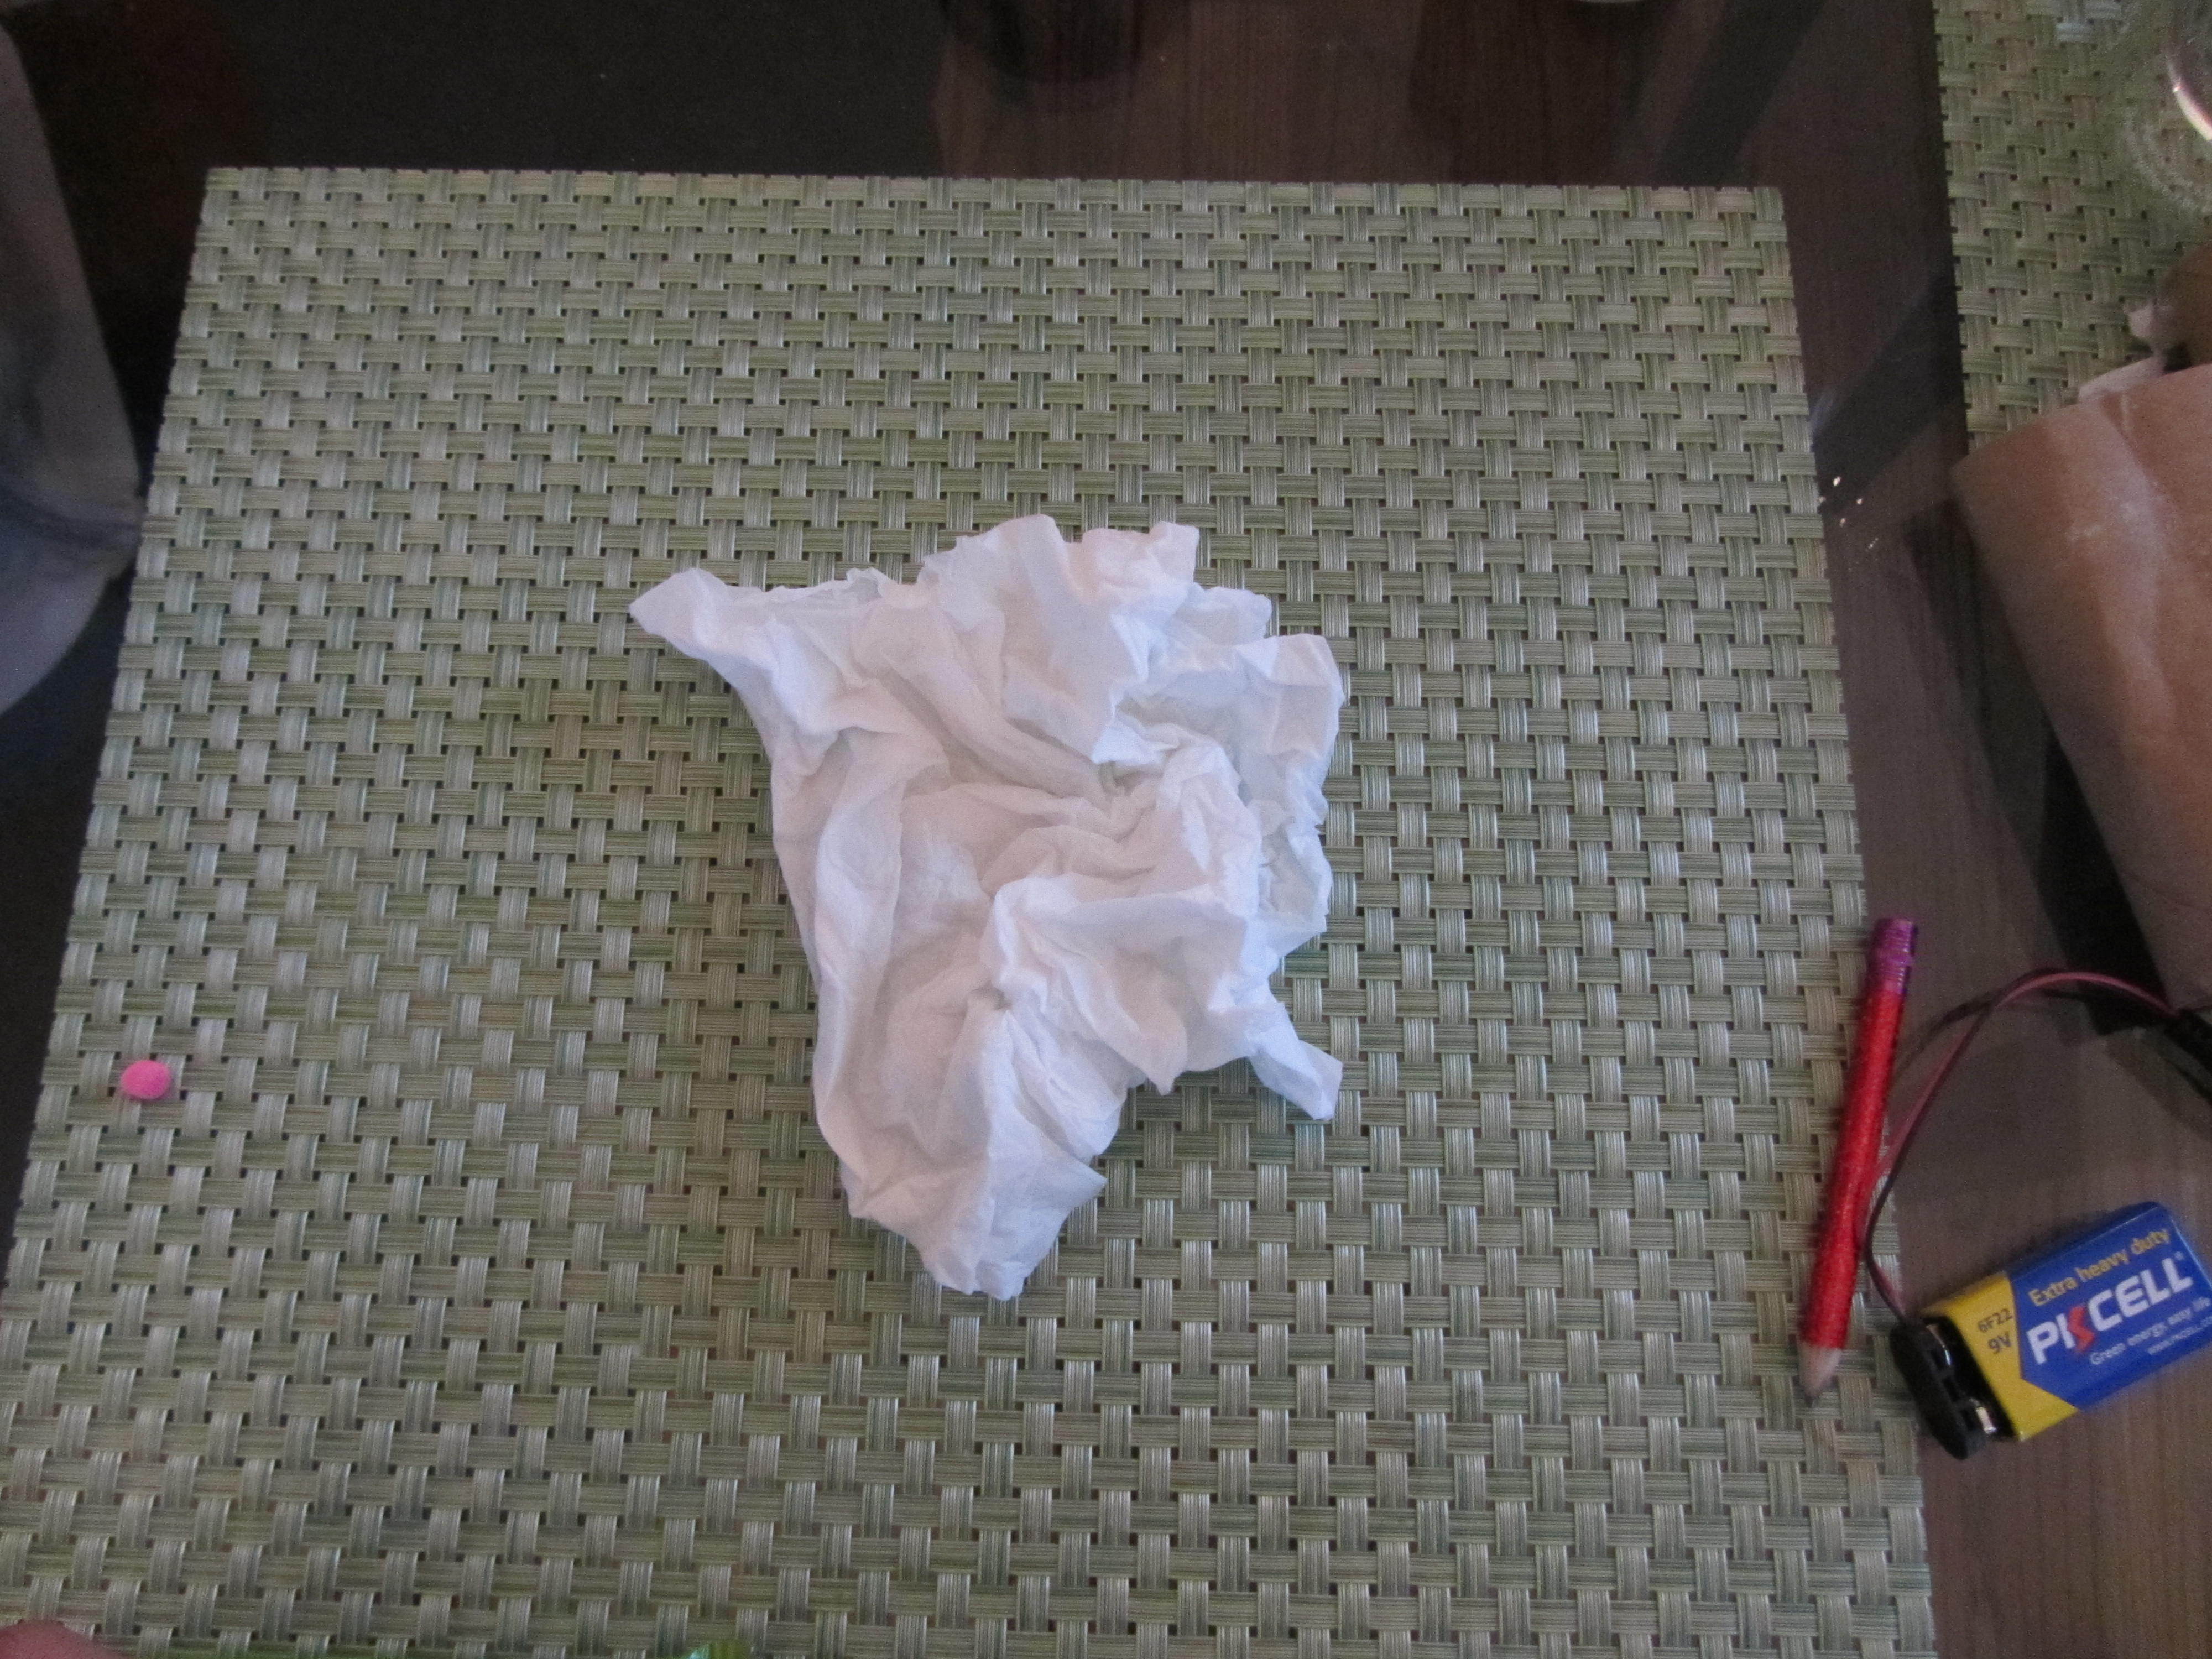tissue: (611, 511, 1385, 1319)
